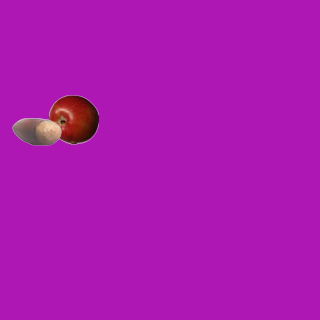Apple Braeburn: (48, 94, 98, 144)
Hazelnut: (11, 106, 61, 156)
